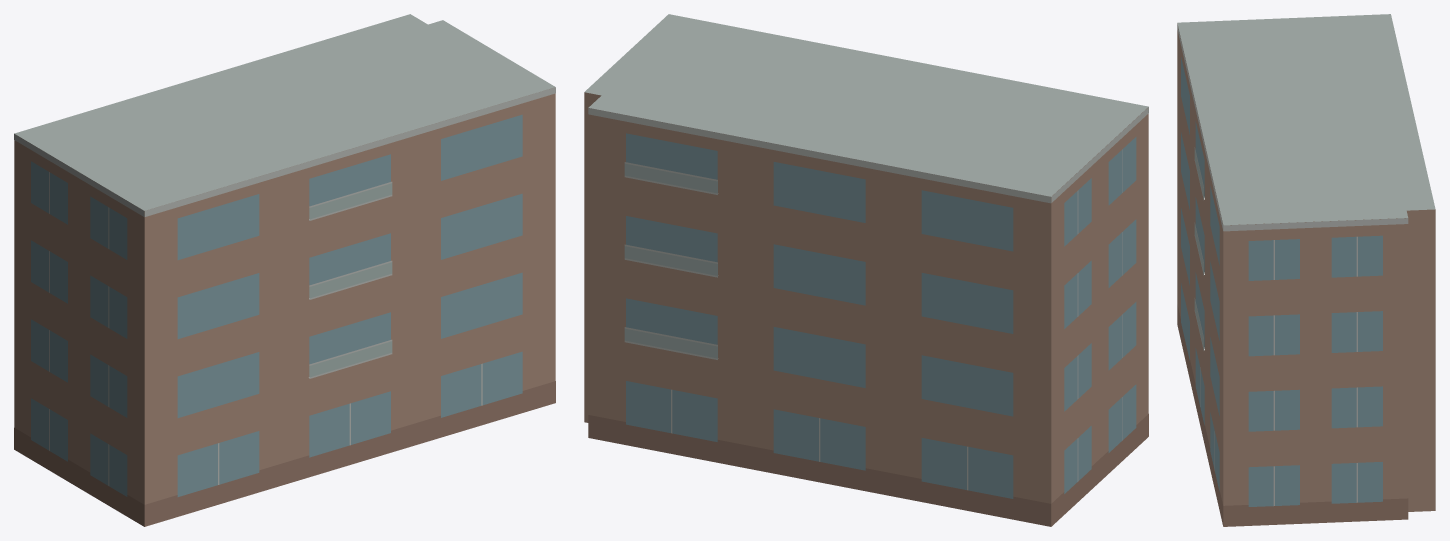
File: survey-upis-32822496.glb
3 views of the same model, side by side, from view 1: azimuth 30°, elevation 25°; view 2: azimuth 150°, elevation 25°; view 3: azimuth 270°, elevation 25° (orthographic). The views are drawn at different scales.
Visible parts, largest first — view 1: survey-upis-32822496.tmp; view 2: survey-upis-32822496.tmp; view 3: survey-upis-32822496.tmp.
Part boxes in pixels (x1,y1,x2,y2): survey-upis-32822496.tmp: (14, 14, 555, 526); survey-upis-32822496.tmp: (584, 14, 1148, 526); survey-upis-32822496.tmp: (1177, 14, 1435, 526).
Bounding box in the file's own units: 18.35 × 12.2 × 9.48.
